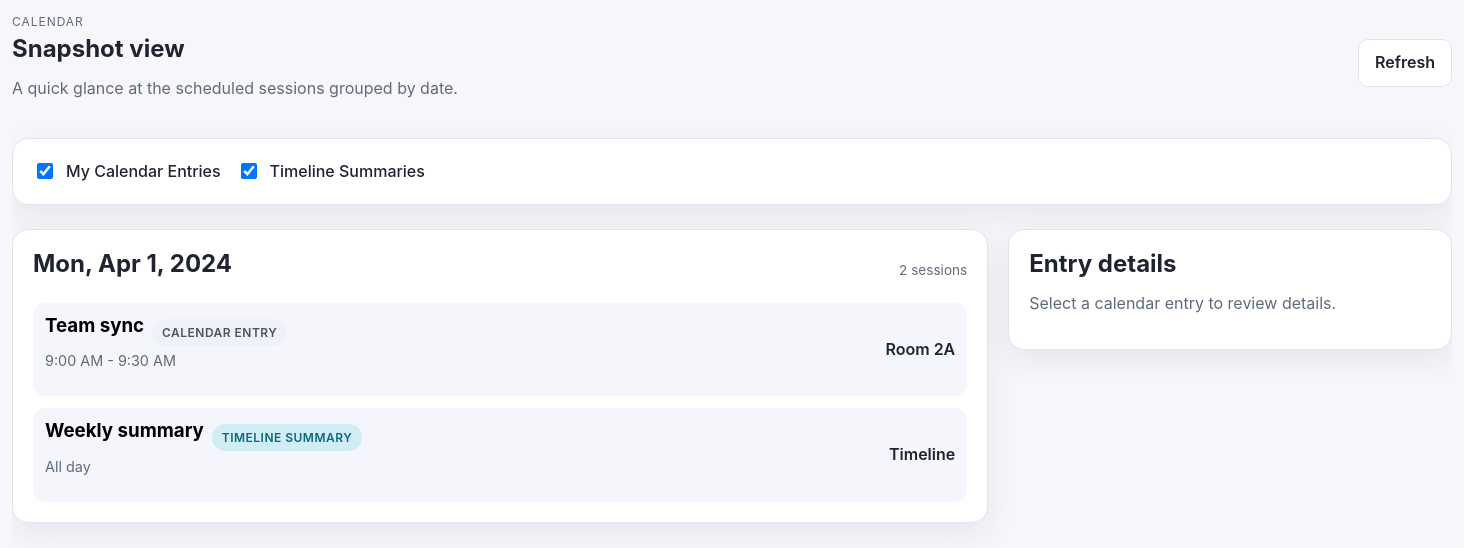
Scenario: CalendarPageClient › opens the entry drawer when a calendar entry is clicked
Click the button "Team sync Calendar entry 9:00 AM - 9:30 AM Room 2A" at (95, 325), box x1=33 y1=303 x2=967 y2=396
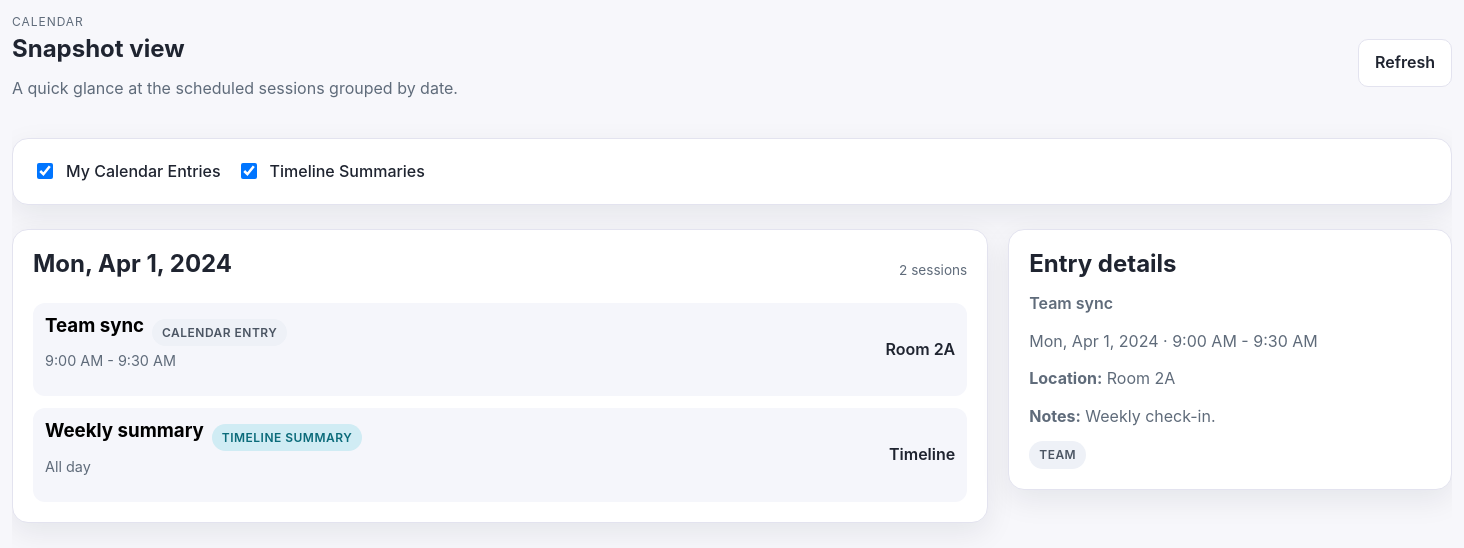
Expected: the heading "Entry details" is shown, x1=1029 y1=249 x2=1177 y2=278
Expected: the text "Notes: Weekly check-in." is shown, x1=1029 y1=406 x2=1216 y2=426
